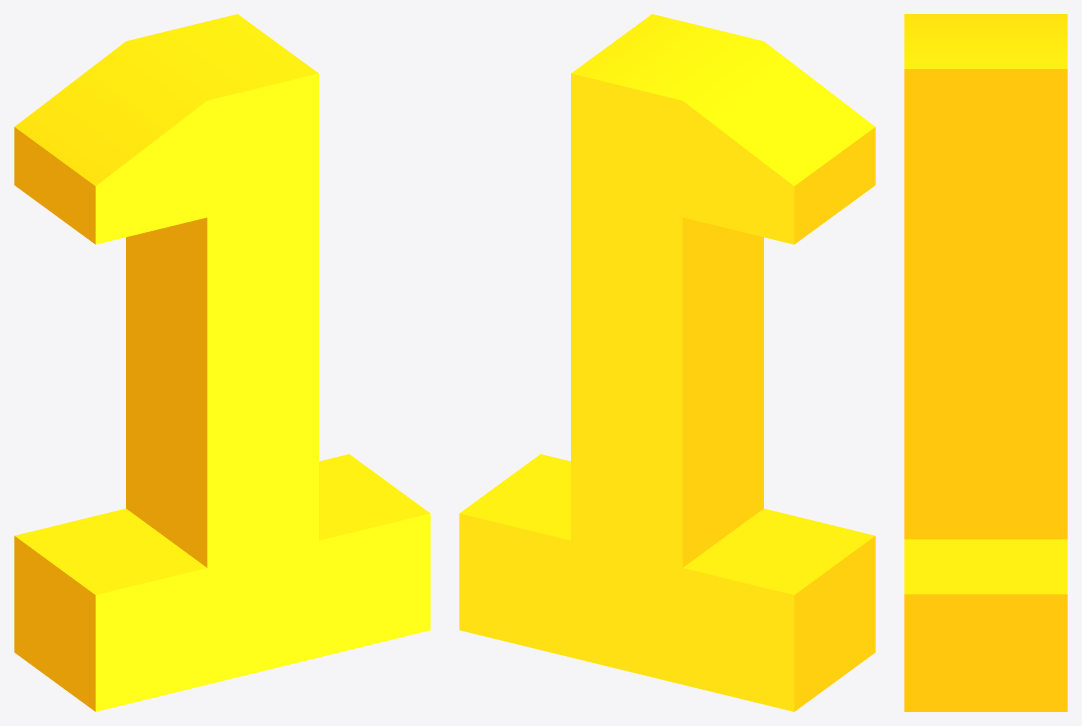
File: 3b949e37-db8d-449b-9609-edbb6965c29e.glb
3 views of the same model, side by side, from view 1: azimuth 30°, elevation 25°; view 2: azimuth 150°, elevation 25°; view 3: azimuth 270°, elevation 25° (orthographic).
Visible parts, largest first — view 1: 1_DeltaBlock_Yellow; view 2: 1_DeltaBlock_Yellow; view 3: 1_DeltaBlock_Yellow.
Boxes of the visible parts, x1=… form: 1_DeltaBlock_Yellow: x1=14, y1=14, x2=430, y2=711; 1_DeltaBlock_Yellow: x1=459, y1=14, x2=875, y2=711; 1_DeltaBlock_Yellow: x1=904, y1=14, x2=1067, y2=711.
Size of what is drawn, in the model's own units: 0.1071 by 0.1786 by 0.045.
Materials: 2 (2 with a texture image).
